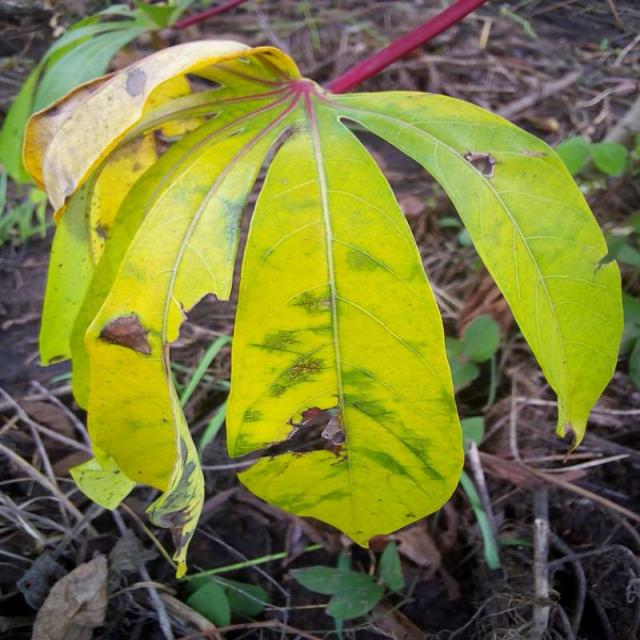cassava leaf: (23, 35, 626, 573), (225, 95, 466, 549)
